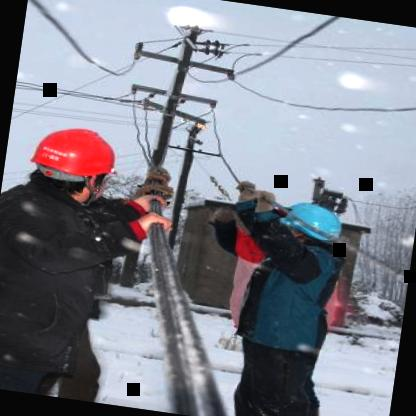helmet: (19, 117, 126, 207), (274, 198, 344, 262)
